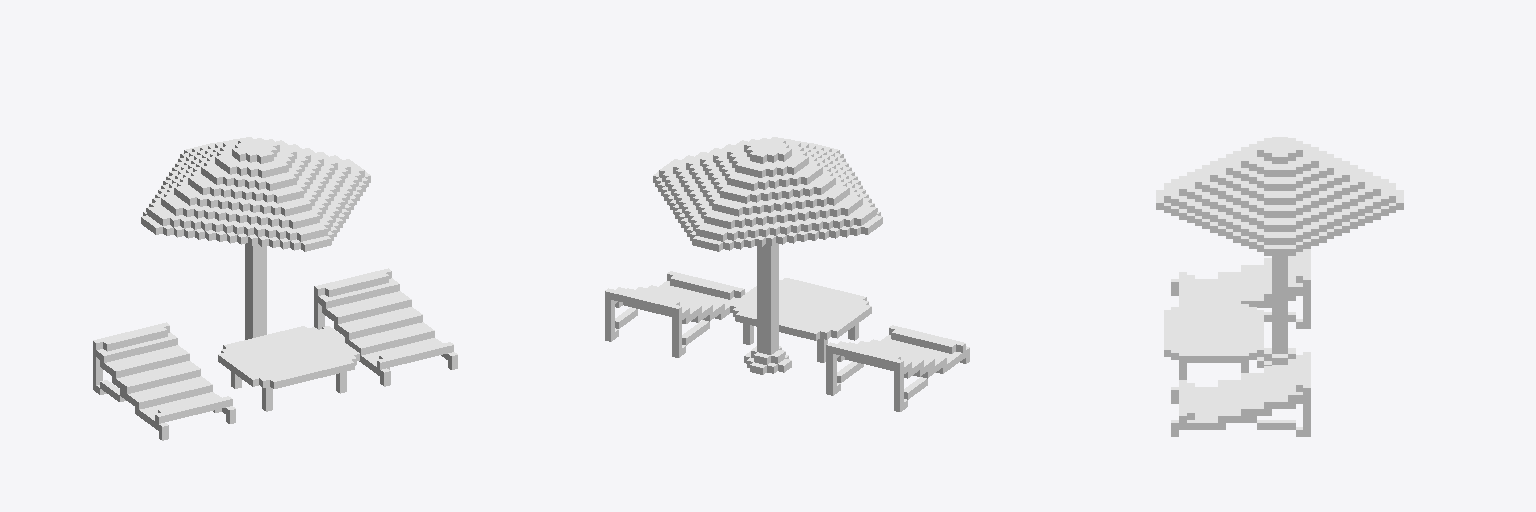
Rendered from rimhad.obj.
3 renders of one model, left to right at view 1: azimuth 30°, elevation 25°; view 2: azimuth 150°, elevation 25°; view 3: azimuth 270°, elevation 25°, orthographic.
Parts seen in each view (by area): view 1: object 1; view 2: object 1; view 3: object 1.
Boxes of the visible parts, <box> form: object 1: <box>93,137,457,440</box>; object 1: <box>605,137,969,411</box>; object 1: <box>1156,137,1403,436</box>.
Size of the model in its own units: 4.4 by 3.1 by 3.2.